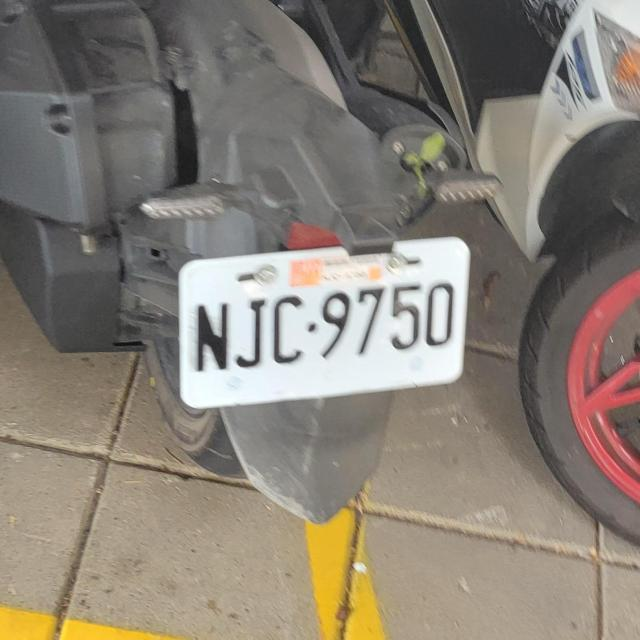W: (165, 226, 481, 419)
